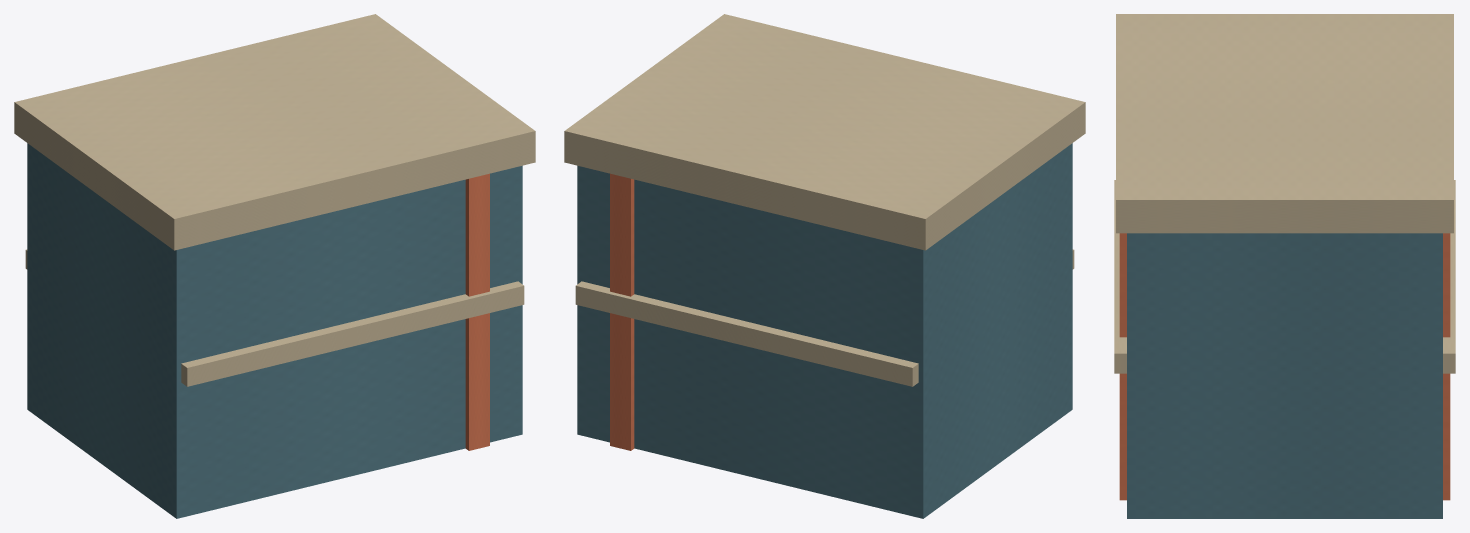
The model's file is atlas100-sailpunk-util02.lod2.glb.
The picture shows the model from 3 angles, left to right: view 1: azimuth 30°, elevation 25°; view 2: azimuth 150°, elevation 25°; view 3: azimuth 270°, elevation 25°; orthographic projection. The views are drawn at different scales.
Parts seen in each view (by area): view 1: atlas100-sailpunk-util02:part-000, atlas100-sailpunk-util02:part-005, atlas100-sailpunk-util02:part-004, atlas100-sailpunk-util02:part-002; view 2: atlas100-sailpunk-util02:part-000, atlas100-sailpunk-util02:part-005, atlas100-sailpunk-util02:part-003, atlas100-sailpunk-util02:part-002; view 3: atlas100-sailpunk-util02:part-000, atlas100-sailpunk-util02:part-005, atlas100-sailpunk-util02:part-002, atlas100-sailpunk-util02:part-003, atlas100-sailpunk-util02:part-004.
Boxes of the visible parts, x1=… form: atlas100-sailpunk-util02:part-000: x1=27, y1=143, x2=522, y2=518; atlas100-sailpunk-util02:part-005: x1=14, y1=14, x2=535, y2=250; atlas100-sailpunk-util02:part-004: x1=181, y1=281, x2=524, y2=386; atlas100-sailpunk-util02:part-002: x1=465, y1=173, x2=489, y2=450; atlas100-sailpunk-util02:part-000: x1=577, y1=143, x2=1072, y2=518; atlas100-sailpunk-util02:part-005: x1=564, y1=14, x2=1085, y2=250; atlas100-sailpunk-util02:part-003: x1=575, y1=281, x2=918, y2=386; atlas100-sailpunk-util02:part-002: x1=610, y1=173, x2=634, y2=450; atlas100-sailpunk-util02:part-000: x1=1127, y1=233, x2=1442, y2=518; atlas100-sailpunk-util02:part-005: x1=1116, y1=14, x2=1453, y2=233; atlas100-sailpunk-util02:part-002: x1=1119, y1=233, x2=1450, y2=500; atlas100-sailpunk-util02:part-003: x1=1443, y1=180, x2=1455, y2=373; atlas100-sailpunk-util02:part-004: x1=1114, y1=180, x2=1126, y2=373.
Bounding box in the file's own units: 1.28 × 1.04 × 0.9942.
Materials: 3 (3 with a texture image).
